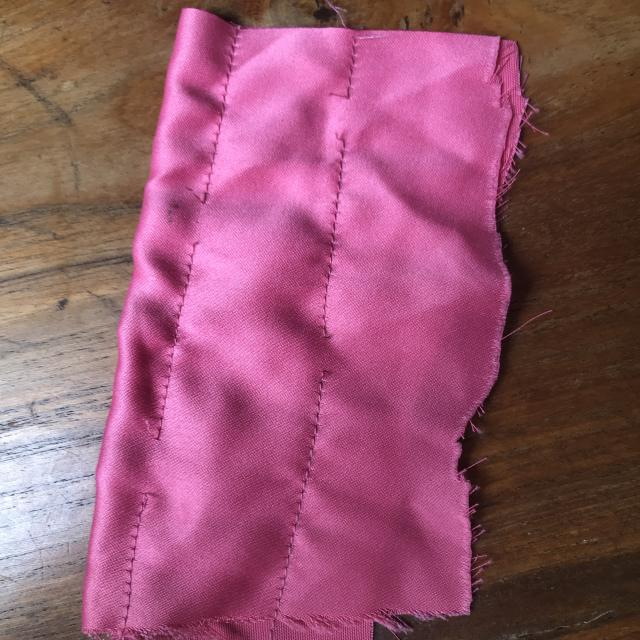broken: (305, 78, 382, 156), (174, 175, 232, 263), (289, 323, 357, 389), (137, 409, 173, 522)
